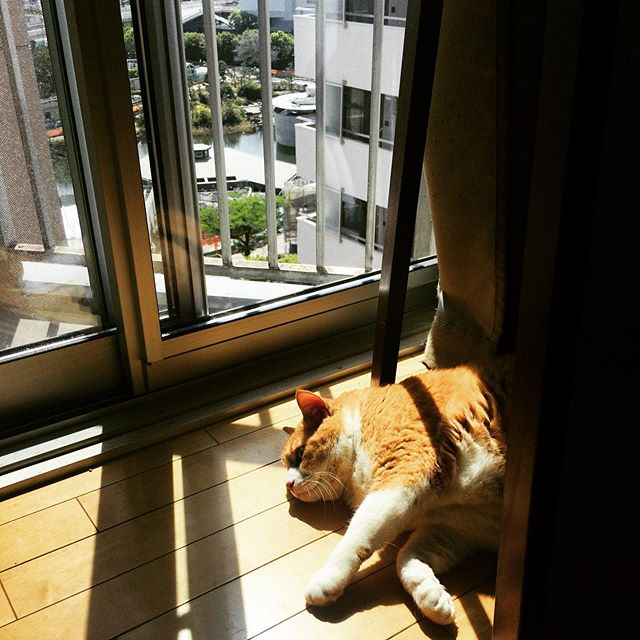animal: (284, 361, 568, 640)
building: (301, 1, 434, 276)
window: (1, 1, 422, 395)
